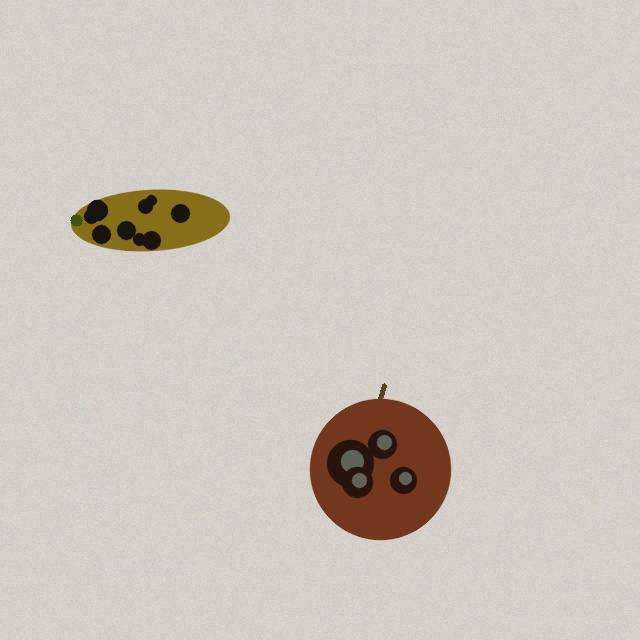Rotten apple: (310, 385, 450, 539)
Rotten banana: (68, 183, 232, 257)
